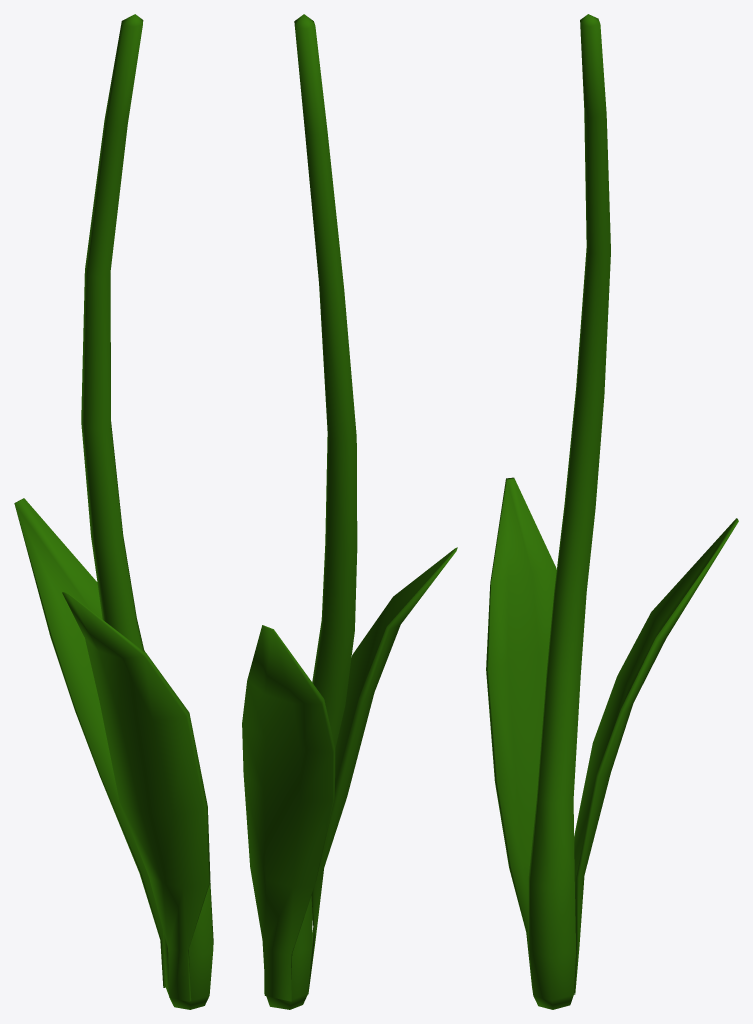
File: FlowerCropFinal.fbx
The picture shows the model from 3 angles, left to right: view 1: azimuth 30°, elevation 25°; view 2: azimuth 150°, elevation 25°; view 3: azimuth 270°, elevation 25°; orthographic projection. The views are drawn at different scales.
Parts seen in each view (by area): view 1: FlowerCropFinal; view 2: FlowerCropFinal; view 3: FlowerCropFinal.
Part boxes in pixels (box(x1,y1,x2,y2)): FlowerCropFinal: box(14, 14, 213, 1009); FlowerCropFinal: box(242, 14, 457, 1009); FlowerCropFinal: box(486, 14, 738, 1009).
Size of the model in its own units: 5.42 by 29.93 by 7.07.
